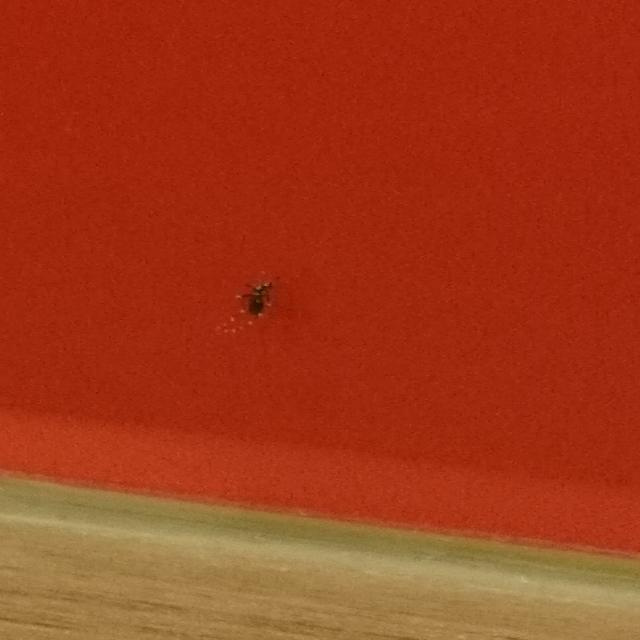albopictus: (236, 277, 278, 314)
